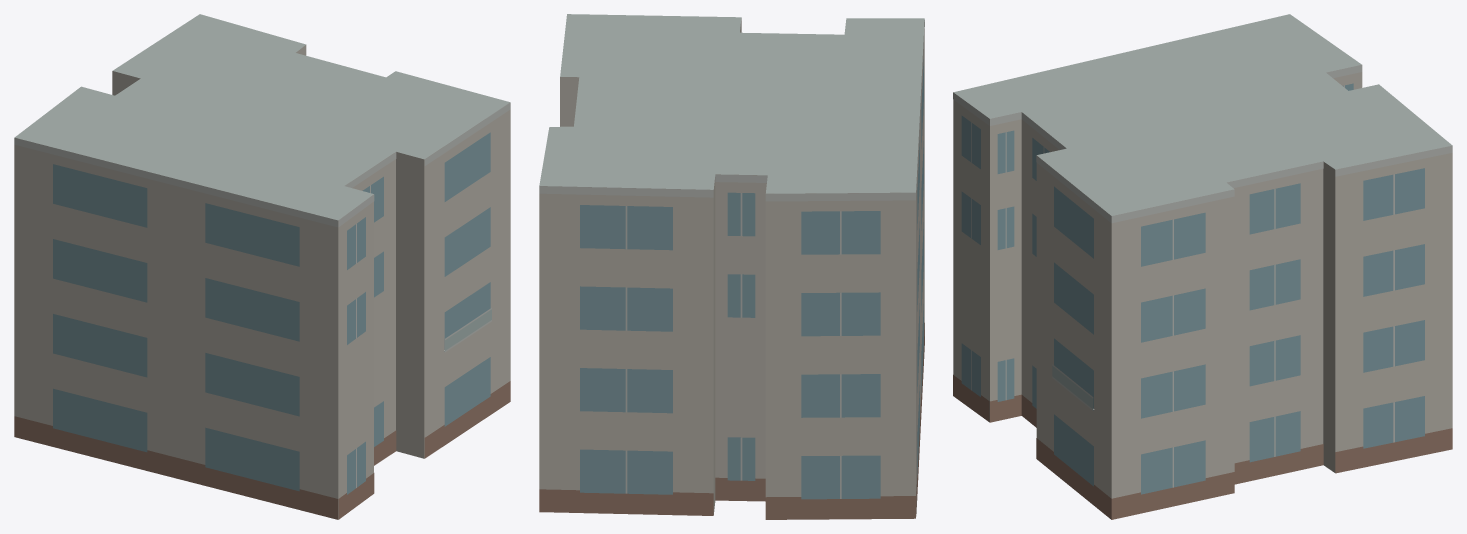
The model's file is survey-upis-32732553.glb.
The picture shows the model from 3 angles, left to right: view 1: azimuth 30°, elevation 25°; view 2: azimuth 150°, elevation 25°; view 3: azimuth 270°, elevation 25°; orthographic projection. The views are drawn at different scales.
Visible parts, largest first — view 1: survey-upis-32732553.tmp; view 2: survey-upis-32732553.tmp; view 3: survey-upis-32732553.tmp.
Part boxes in pixels (left/top/right/bottom): survey-upis-32732553.tmp: left=14, top=14, right=510, bottom=519; survey-upis-32732553.tmp: left=539, top=14, right=924, bottom=519; survey-upis-32732553.tmp: left=953, top=14, right=1452, bottom=519.
Bounding box in the file's own units: 14.71 × 10.3 × 15.36.
